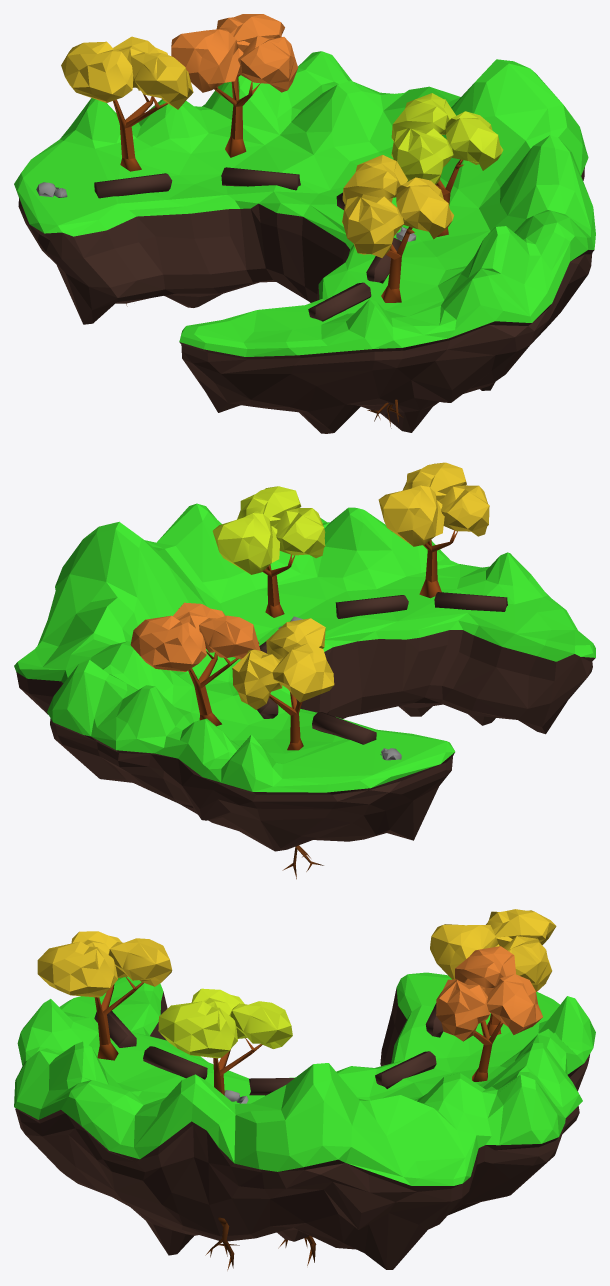
File: isla3.fbx
3 renders of one model, top to bottom at view 1: azimuth 30°, elevation 25°; view 2: azimuth 150°, elevation 25°; view 3: azimuth 270°, elevation 25°, orthographic. The views are drawn at different scales.
Visible parts, largest first — view 1: Log_big_regular.001; view 2: Log_big_regular.001; view 3: Log_big_regular.001.
Boxes of the visible parts, bbox=[...] form: Log_big_regular.001: bbox=[14, 14, 595, 433]; Log_big_regular.001: bbox=[14, 462, 595, 879]; Log_big_regular.001: bbox=[14, 909, 595, 1270].
Size of the model in its own units: 7872 by 4571 by 8665.
